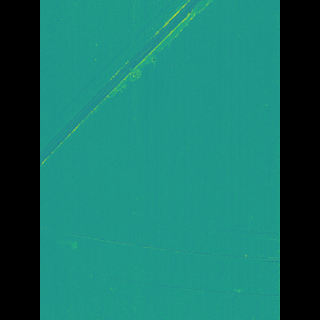Loch: (68, 0, 202, 171), (89, 202, 249, 247), (92, 227, 250, 265), (99, 270, 250, 302)
